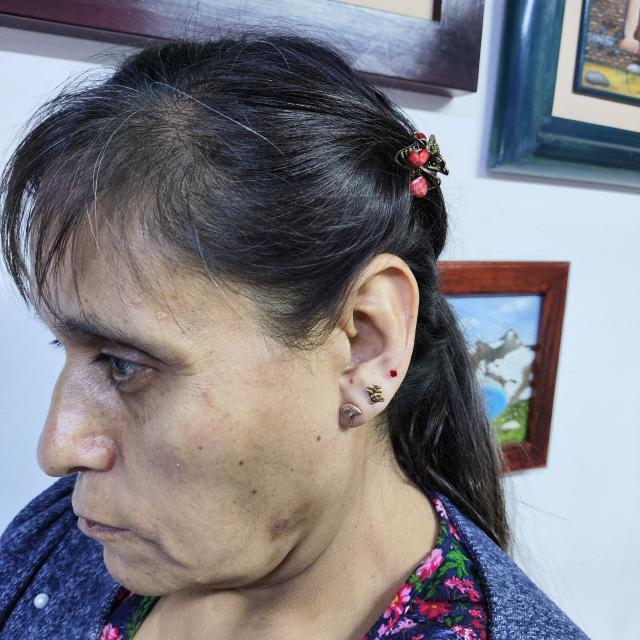ear: (338, 254, 419, 429)
